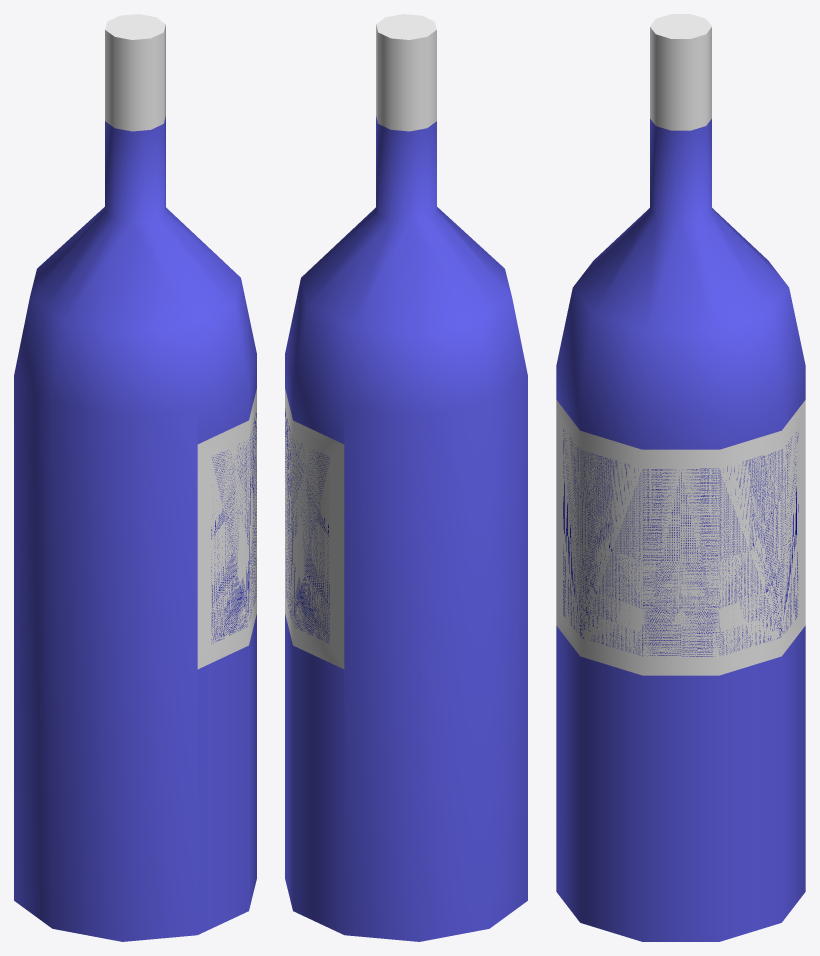
3 views of the same model, side by side, from view 1: azimuth 30°, elevation 25°; view 2: azimuth 150°, elevation 25°; view 3: azimuth 270°, elevation 25° (orthographic).
Visible parts, largest first — view 1: mesh1_mesh1-geometry, mesh2_mesh2-geometry; view 2: mesh2_mesh2-geometry, mesh1_mesh1-geometry; view 3: mesh1_mesh1-geometry, mesh2_mesh2-geometry.
Boxes of the visible parts, bbox=[...] form: mesh1_mesh1-geometry: bbox=[33, 21, 256, 941]; mesh2_mesh2-geometry: bbox=[14, 14, 160, 914]; mesh2_mesh2-geometry: bbox=[285, 21, 508, 941]; mesh1_mesh1-geometry: bbox=[381, 14, 527, 914]; mesh1_mesh1-geometry: bbox=[556, 14, 680, 941]; mesh2_mesh2-geometry: bbox=[681, 14, 805, 941].
Bounding box in the file's own units: 0.2334 × 0.9409 × 0.2454.
